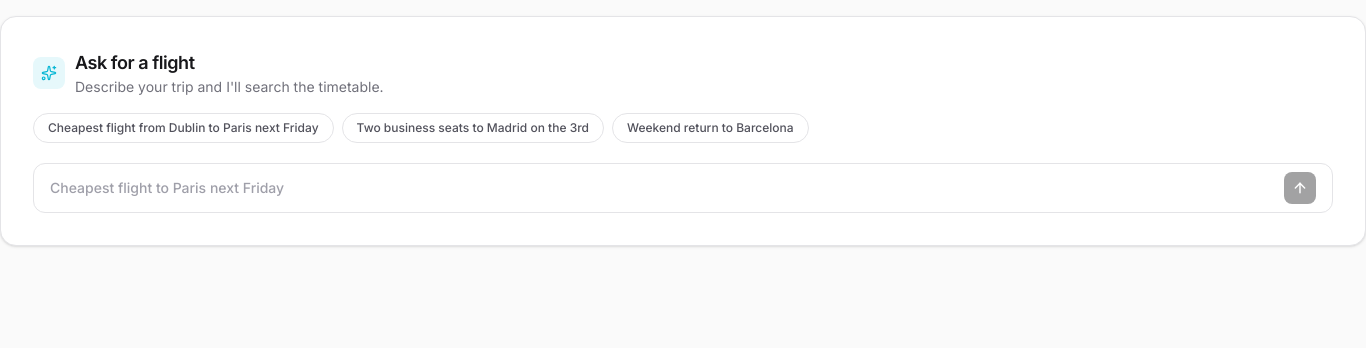
Test case: AssistantChat › failures › says the assistant is off rather than 'try again' on a 503
Type "cheapest flight to Paris next Friday" into the field named "Describe your trip" at (663, 188), box 50,174 -> 1276,202
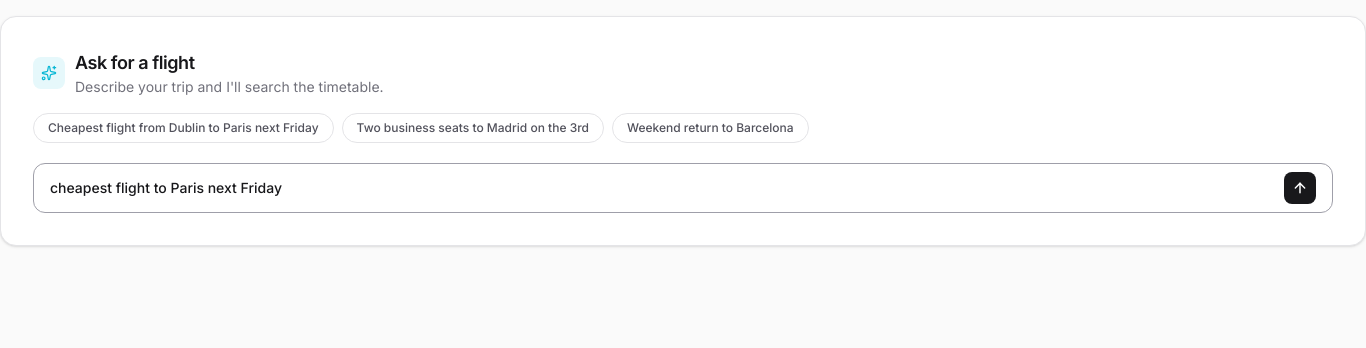
Click the button named "Send" at (1300, 188), box 1284,172 -> 1316,204
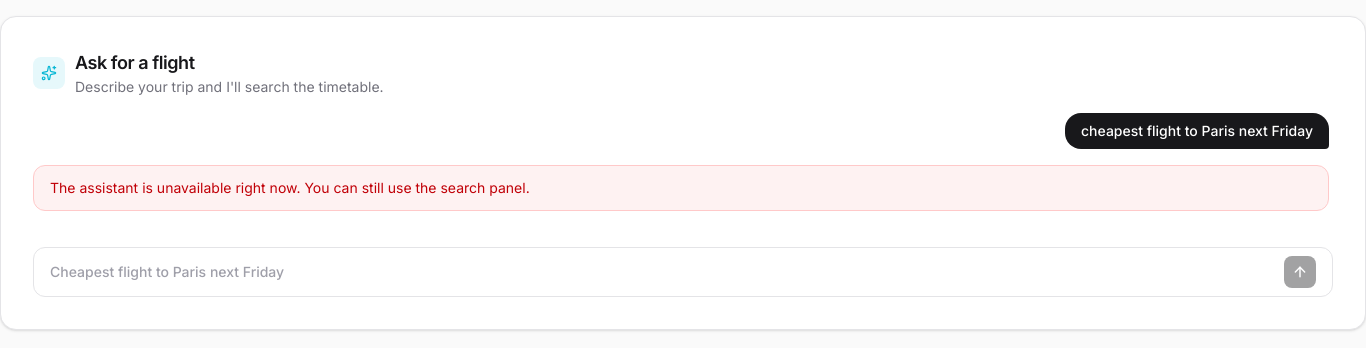
Expected: the text "assistant is unavailable" is shown, 50,179 -> 530,196
